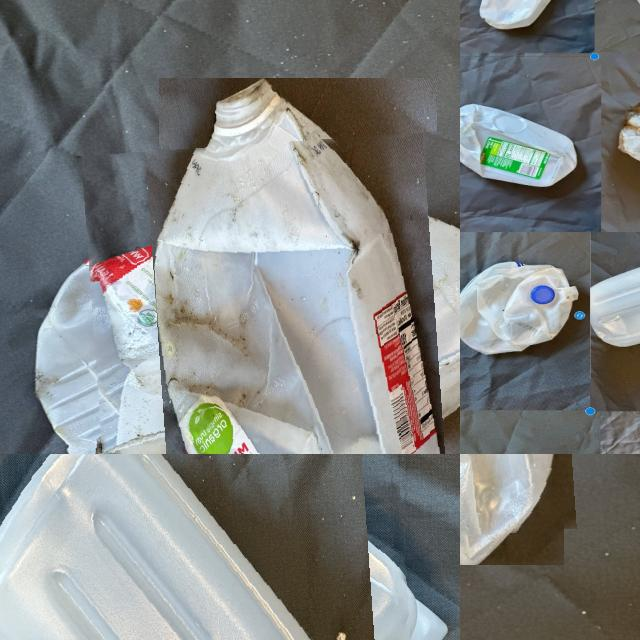milk-jug: (87, 134, 460, 454), (0, 454, 420, 640), (460, 454, 593, 547), (460, 88, 570, 197), (460, 262, 577, 354), (596, 249, 640, 352), (470, 0, 566, 41)
